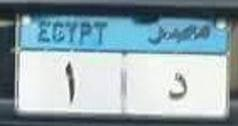1: (63, 61, 77, 104)
daal: (166, 70, 189, 101)
